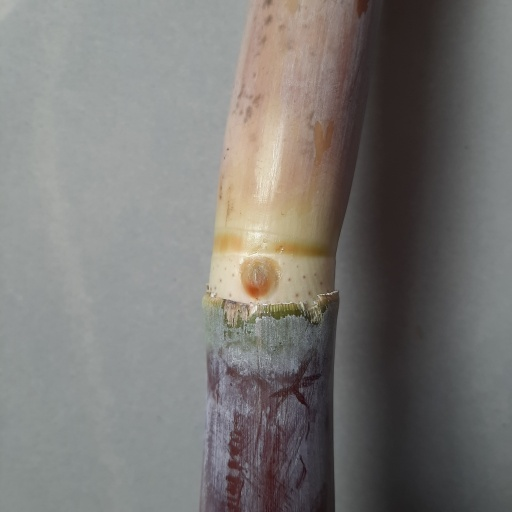Bud: (239, 256, 281, 299)
